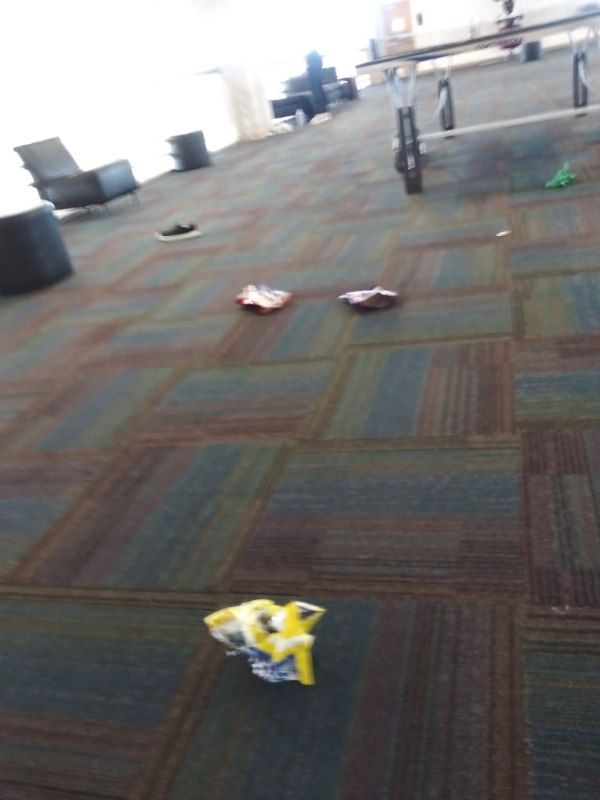bag: (194, 592, 330, 689), (227, 278, 298, 318), (332, 280, 404, 314)
